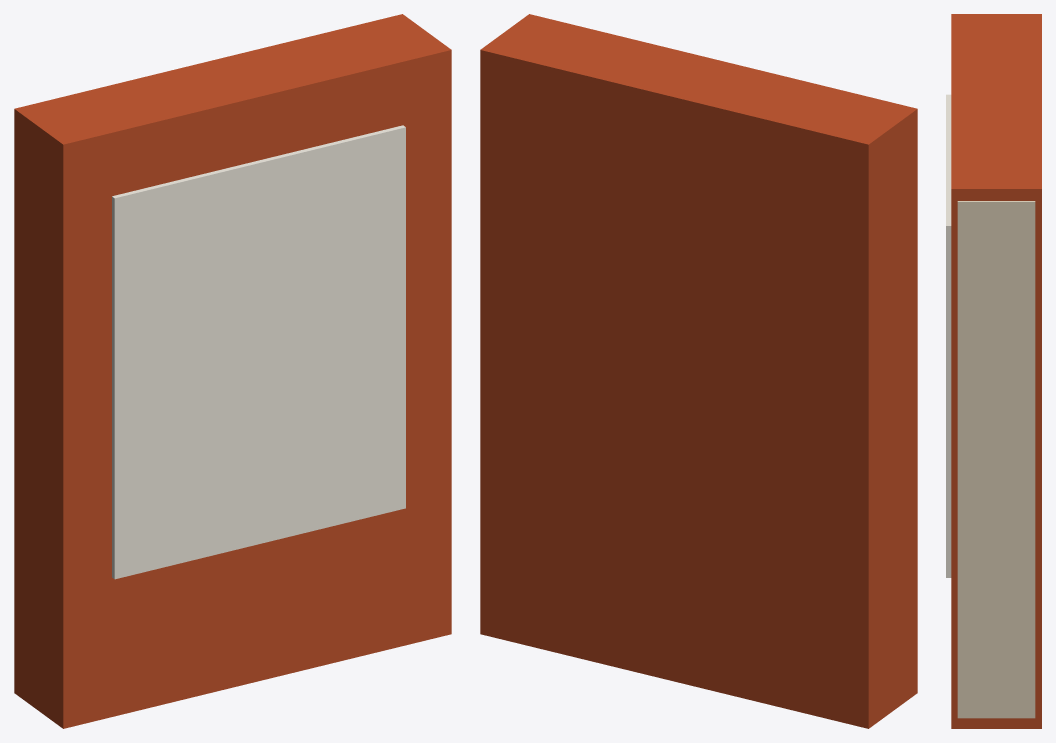
Rendered from product-book.glb.
The picture shows the model from 3 angles, left to right: view 1: azimuth 30°, elevation 25°; view 2: azimuth 150°, elevation 25°; view 3: azimuth 270°, elevation 25°; orthographic projection. The views are drawn at different scales.
Parts seen in each view (by area): view 1: Cover, Label; view 2: Cover; view 3: Pages, Cover, Label.
Part boxes in pixels (left/top/right/bottom): Cover: left=14, top=14, right=451, bottom=728; Label: left=112, top=125, right=405, bottom=579; Cover: left=480, top=14, right=917, bottom=728; Pages: left=957, top=201, right=1035, bottom=718; Cover: left=951, top=14, right=1041, bottom=728; Label: left=946, top=94, right=951, bottom=577.
Size of the model in its own units: 0.161 by 0.23 by 0.037.
